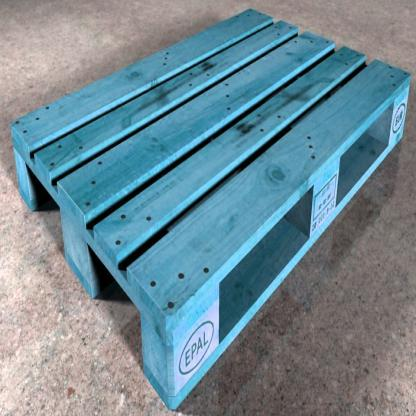BoxFace: (9, 3, 415, 415)
